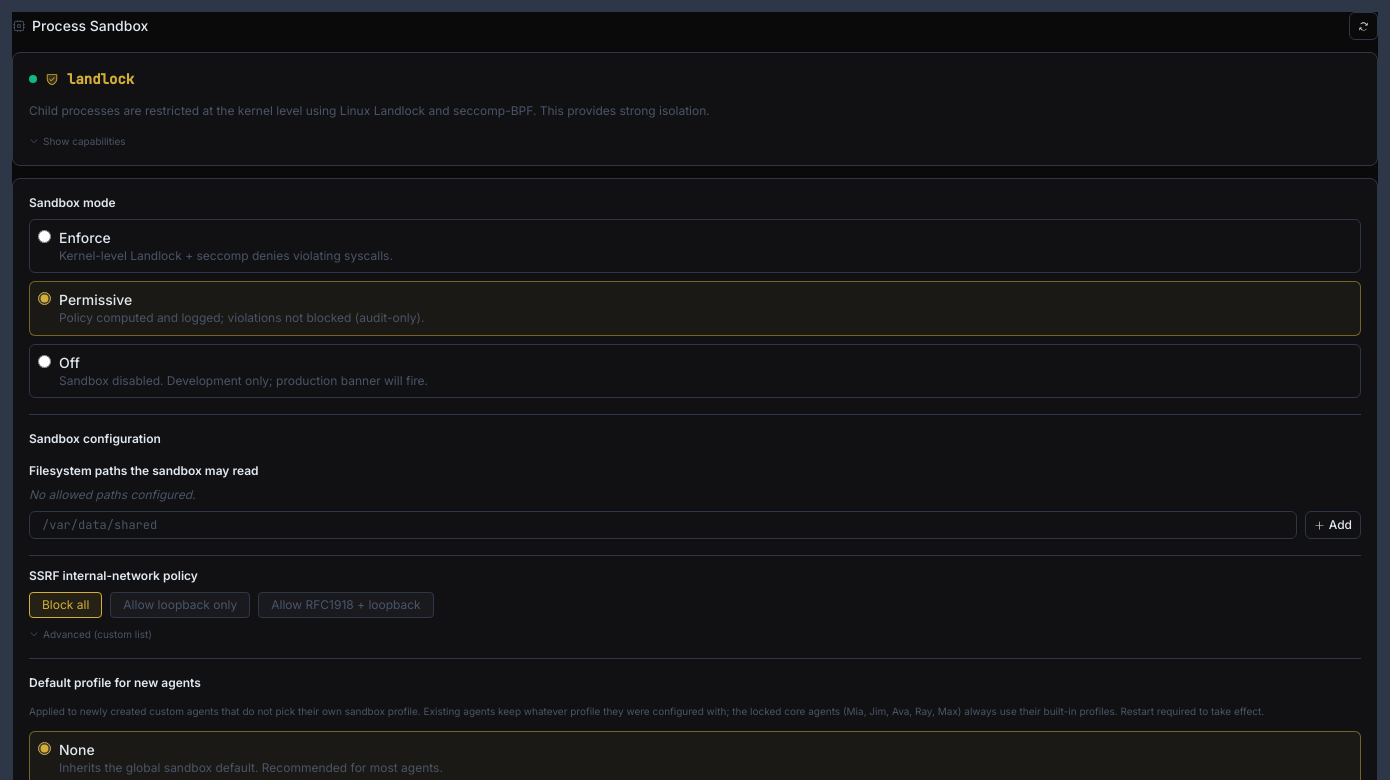
Test: SSRF editor › malformed CIDR entry in Advanced mode → inline error, Add rejected
Click the button "Advanced (custom list)": (90, 634) x1=29 y1=626 x2=152 y2=642
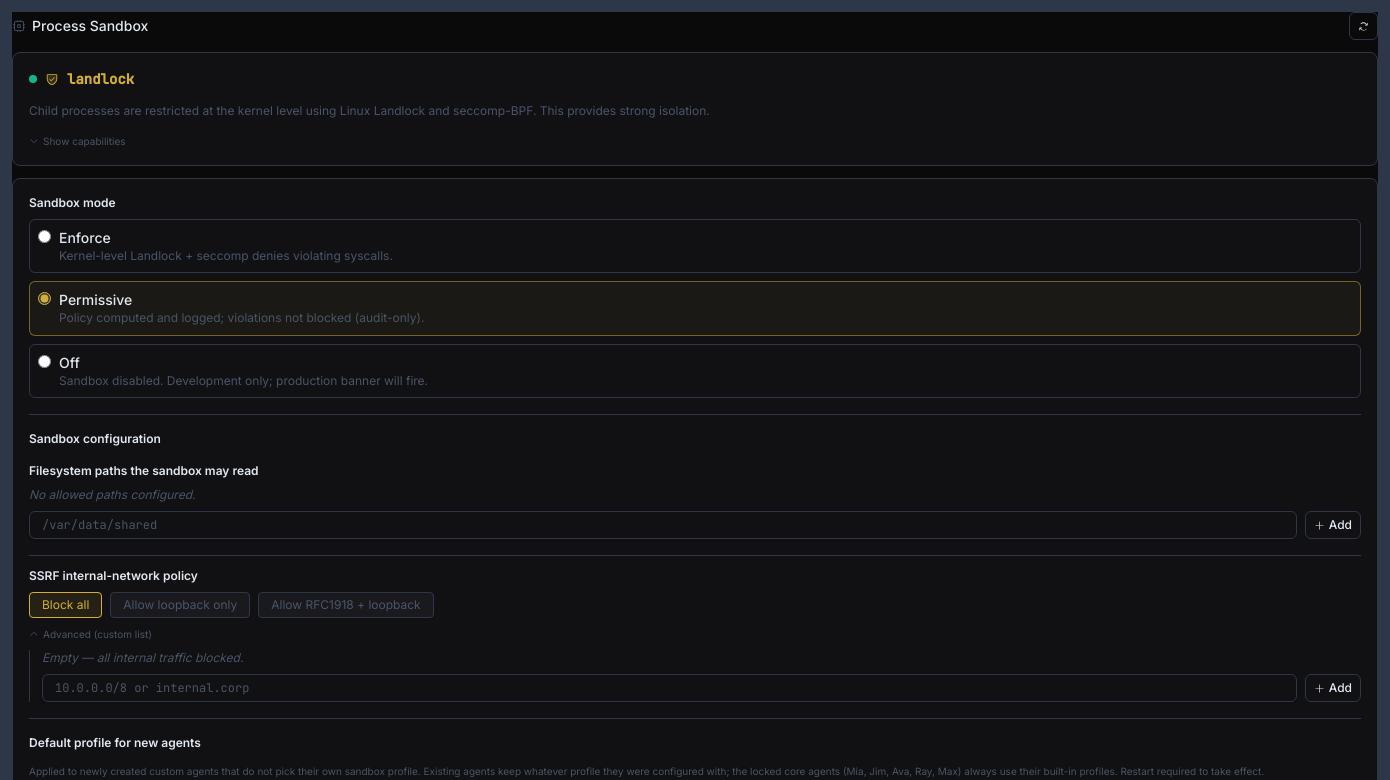
In the field named "new ssrf allow entry": (669, 688) x1=42 y1=674 x2=1297 y2=702, type "10.0.0/8"
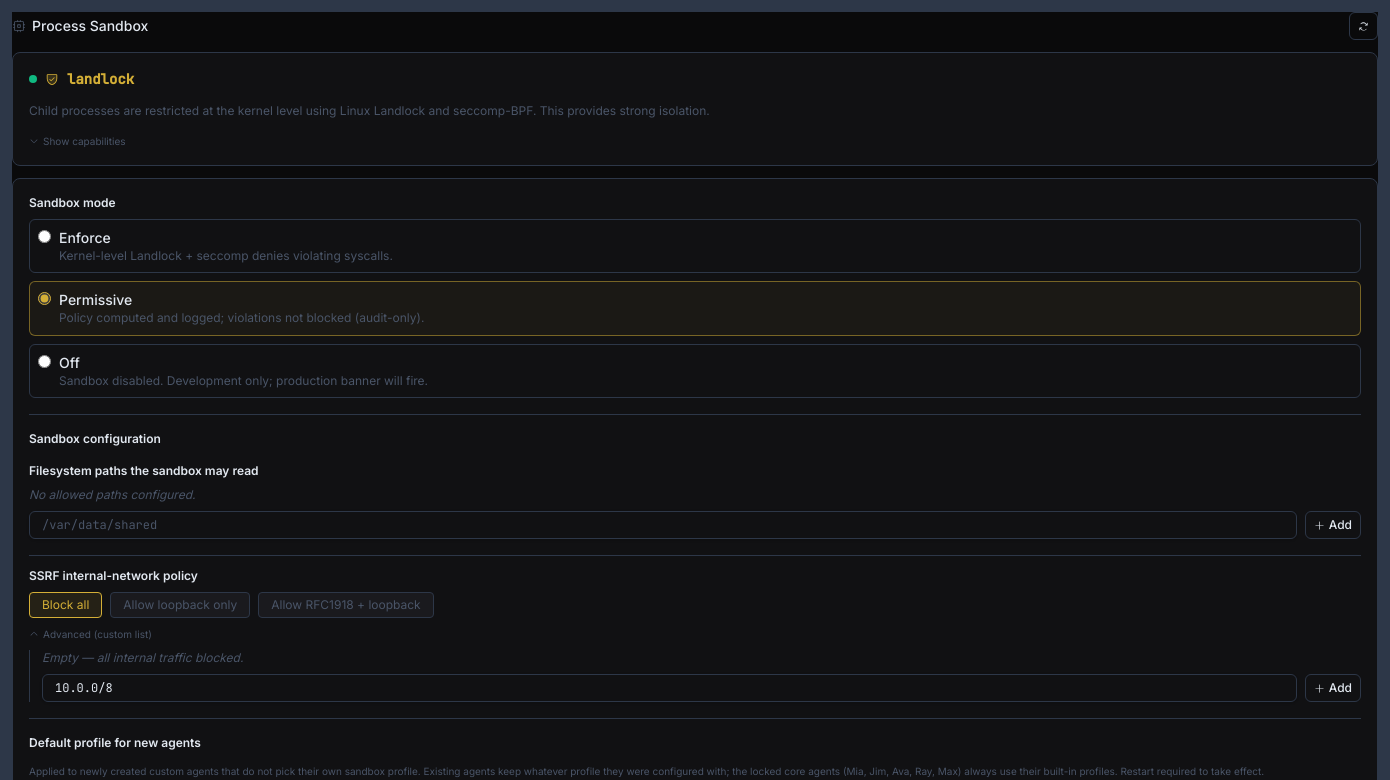
Click the button with aria-label "add ssrf entry": (1333, 688) x1=1305 y1=674 x2=1361 y2=702
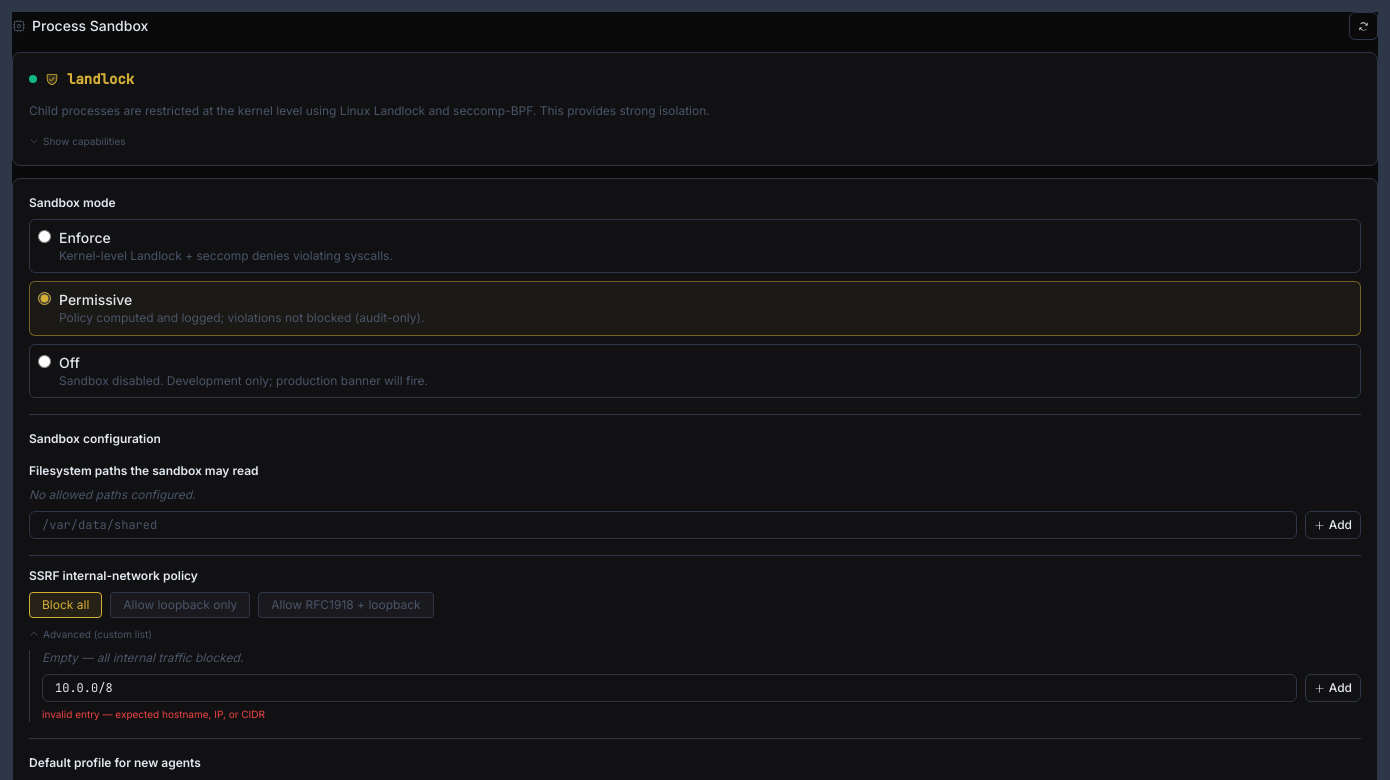
Now the text "invalid entry — expected hostname, IP, or CIDR" is shown, box x1=42 y1=708 x2=265 y2=720
